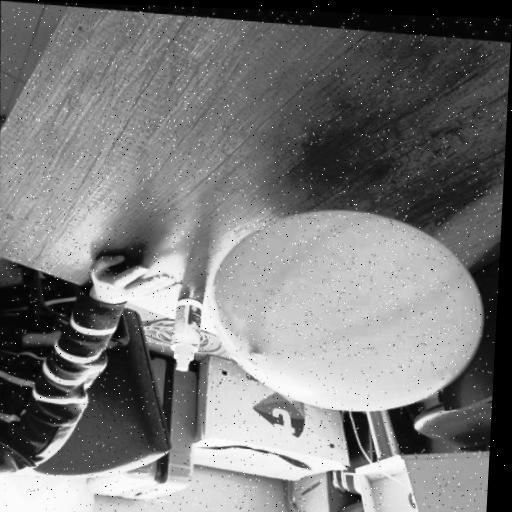balloon: (198, 198, 489, 418)
